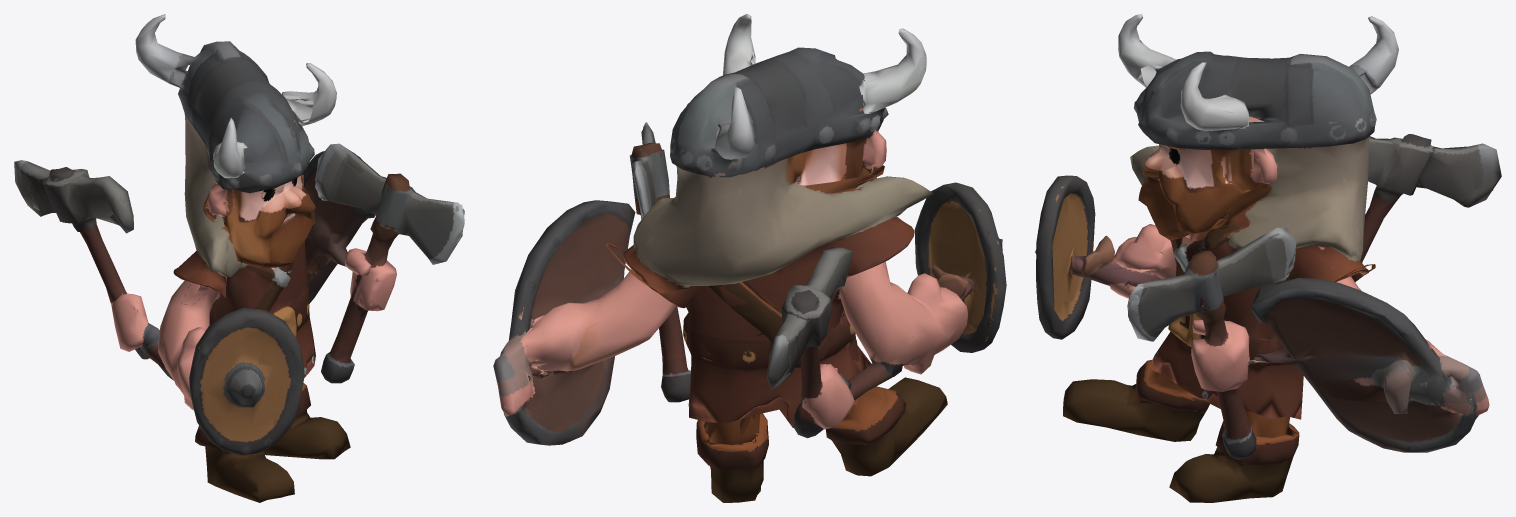
The model's file is vikingo-web.glb.
The picture shows the model from 3 angles, left to right: view 1: azimuth 30°, elevation 25°; view 2: azimuth 150°, elevation 25°; view 3: azimuth 270°, elevation 25°; orthographic projection. The views are drawn at different scales.
Bounding box in the file's own units: 0.7026 × 0.9305 × 0.8811.
1 material, 1 textured.
